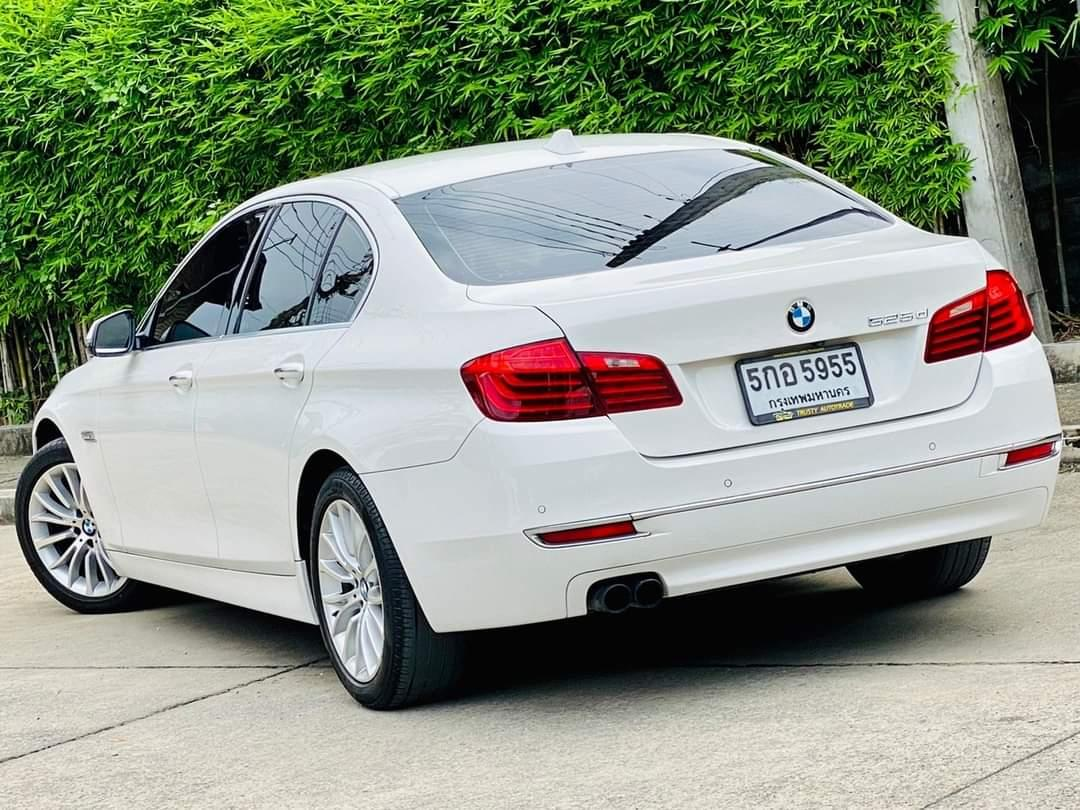license-plate: (729, 336, 880, 428)
